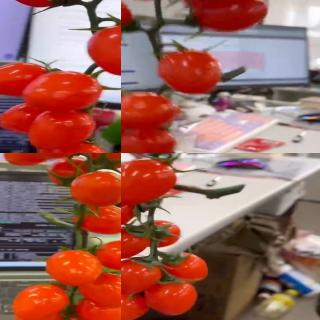tomato: (22, 70, 102, 114), (156, 49, 222, 96), (0, 100, 79, 136), (28, 108, 96, 149), (121, 159, 178, 207), (185, 0, 268, 32), (44, 246, 104, 287), (121, 90, 180, 131), (10, 283, 72, 318), (146, 279, 198, 316), (0, 62, 50, 100), (67, 171, 121, 206), (68, 201, 121, 234), (87, 23, 121, 73), (121, 125, 178, 153), (48, 155, 92, 191), (161, 252, 209, 285), (121, 257, 162, 294), (80, 271, 121, 306), (76, 294, 121, 320), (144, 219, 183, 247), (121, 225, 151, 260), (93, 238, 121, 273), (47, 138, 110, 153), (1, 153, 62, 168), (11, 303, 63, 320), (121, 290, 149, 320), (16, 153, 82, 162), (88, 153, 121, 171), (121, 193, 137, 229)
